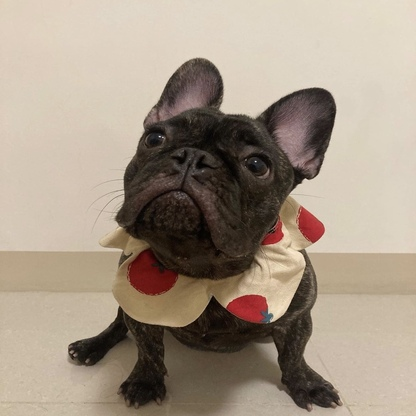bulldog: (66, 55, 345, 416)
